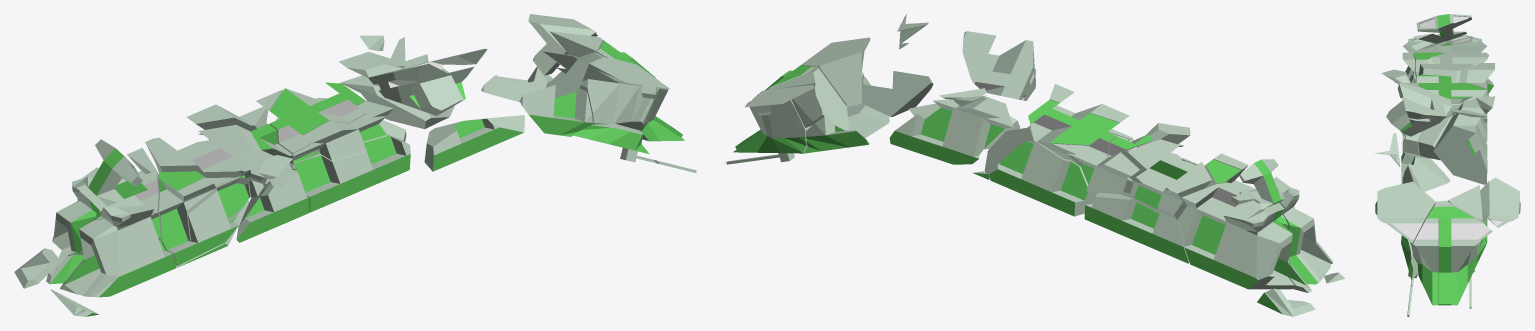
The model's file is Drednaught-Shatter2.fbx.
3 views of the same model, side by side, from view 1: azimuth 30°, elevation 25°; view 2: azimuth 150°, elevation 25°; view 3: azimuth 270°, elevation 25° (orthographic). The views are drawn at different scales.
Parts seen in each view (by area): view 1: DeadnaughtHi_cell.176, DeadnaughtHi_cell.167, DeadnaughtHi_cell.062, DeadnaughtHi_cell.149, DeadnaughtHi_cell.163, DeadnaughtHi_cell.162, DeadnaughtHi_cell.159, DeadnaughtHi_cell.175, DeadnaughtHi_cell.168, DeadnaughtHi_cell.020, DeadnaughtHi_cell.169, DeadnaughtHi_cell.187 (+13 smaller); view 2: DeadnaughtHi_cell.162, DeadnaughtHi_cell.179, DeadnaughtHi_cell.020, DeadnaughtHi_cell.187, DeadnaughtHi_cell.062, DeadnaughtHi_cell.181, DeadnaughtHi_cell.163, DeadnaughtHi_cell.159, DeadnaughtHi_cell.176, DeadnaughtHi_cell.149, DeadnaughtHi_cell.186, DeadnaughtHi_cell.184 (+10 smaller); view 3: DeadnaughtHi_cell.187, DeadnaughtHi_cell.020, DeadnaughtHi_cell.149, DeadnaughtHi_cell.163, DeadnaughtHi_cell.165, DeadnaughtHi_cell.062, DeadnaughtHi_cell.168, DeadnaughtHi_cell.180, DeadnaughtHi_cell.159, DeadnaughtHi_cell.179, DeadnaughtHi_cell.162, DeadnaughtHi_cell.172 (+12 smaller).
Boxes of the visible parts, left/top/right/bottom form: DeadnaughtHi_cell.176: left=46, top=205, right=176, bottom=297; DeadnaughtHi_cell.167: left=258, top=135, right=410, bottom=212; DeadnaughtHi_cell.062: left=145, top=124, right=273, bottom=184; DeadnaughtHi_cell.149: left=580, top=56, right=669, bottom=124; DeadnaughtHi_cell.163: left=368, top=48, right=487, bottom=115; DeadnaughtHi_cell.162: left=52, top=148, right=162, bottom=268; DeadnaughtHi_cell.159: left=269, top=82, right=366, bottom=164; DeadnaughtHi_cell.175: left=158, top=171, right=250, bottom=251; DeadnaughtHi_cell.168: left=424, top=115, right=524, bottom=171; DeadnaughtHi_cell.020: left=339, top=51, right=454, bottom=129; DeadnaughtHi_cell.169: left=236, top=170, right=309, bottom=242; DeadnaughtHi_cell.187: left=547, top=40, right=684, bottom=141; DeadnaughtHi_cell.162: left=1177, top=182, right=1294, bottom=289; DeadnaughtHi_cell.179: left=984, top=127, right=1098, bottom=216; DeadnaughtHi_cell.020: left=889, top=97, right=1012, bottom=164; DeadnaughtHi_cell.187: left=726, top=65, right=849, bottom=164; DeadnaughtHi_cell.062: left=1121, top=139, right=1211, bottom=220; DeadnaughtHi_cell.181: left=1084, top=192, right=1188, bottom=263; DeadnaughtHi_cell.163: left=962, top=31, right=1035, bottom=100; DeadnaughtHi_cell.159: left=1028, top=99, right=1128, bottom=166; DeadnaughtHi_cell.176: left=1273, top=177, right=1332, bottom=292; DeadnaughtHi_cell.149: left=801, top=37, right=870, bottom=105; DeadnaughtHi_cell.186: left=863, top=71, right=933, bottom=116; DeadnaughtHi_cell.184: left=1069, top=152, right=1139, bottom=194; DeadnaughtHi_cell.187: left=1412, top=203, right=1492, bottom=308; DeadnaughtHi_cell.020: left=1433, top=98, right=1487, bottom=184; DeadnaughtHi_cell.149: left=1375, top=181, right=1435, bottom=251; DeadnaughtHi_cell.163: left=1386, top=82, right=1451, bottom=136; DeadnaughtHi_cell.165: left=1480, top=177, right=1520, bottom=227; DeadnaughtHi_cell.062: left=1417, top=52, right=1488, bottom=82; DeadnaughtHi_cell.168: left=1401, top=152, right=1450, bottom=191; DeadnaughtHi_cell.180: left=1414, top=14, right=1471, bottom=43; DeadnaughtHi_cell.159: left=1418, top=80, right=1486, bottom=117; DeadnaughtHi_cell.179: left=1418, top=114, right=1487, bottom=160; DeadnaughtHi_cell.162: left=1417, top=35, right=1487, bottom=82; DeadnaughtHi_cell.172: left=1448, top=185, right=1482, bottom=220.
Size of the model in its own units: 1291 by 347 by 346.
